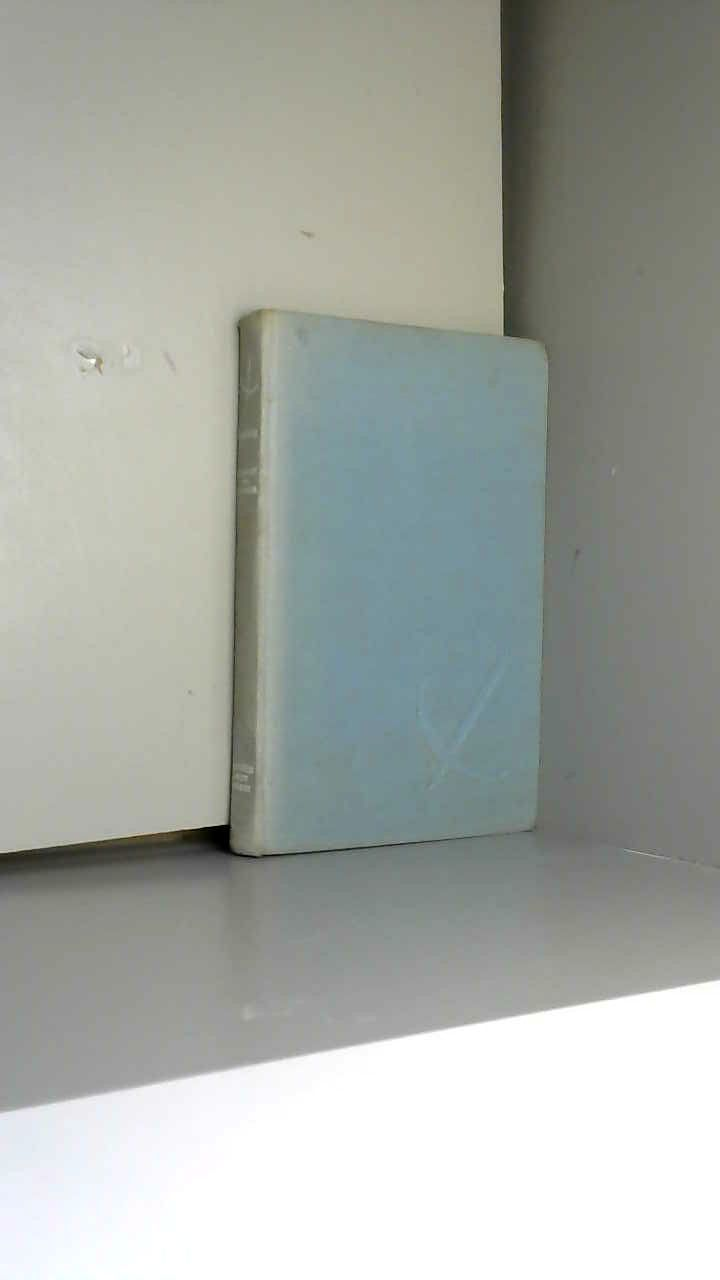book: (191, 284, 589, 892)
